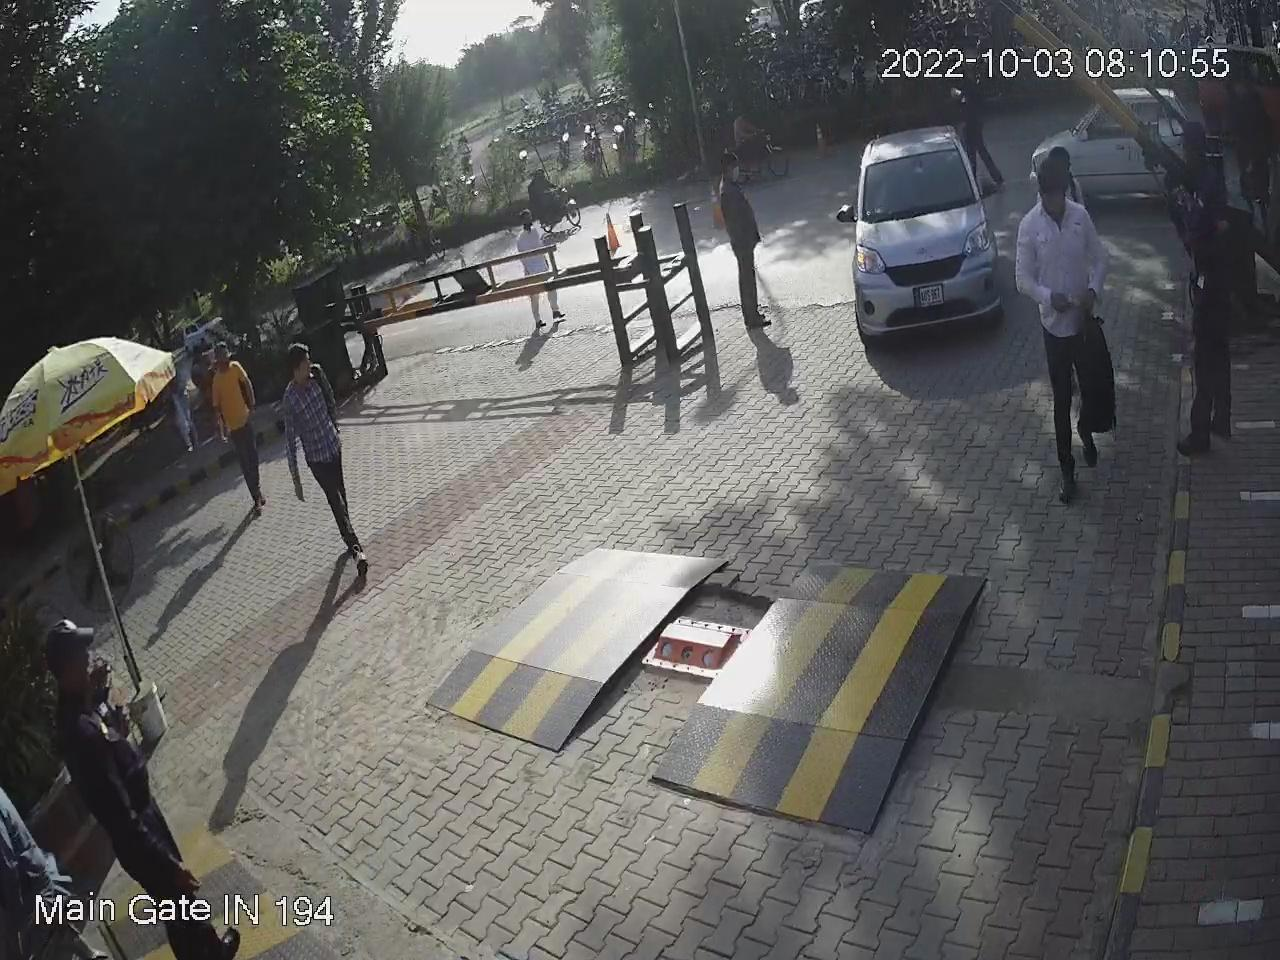windshield: (858, 142, 983, 225)
